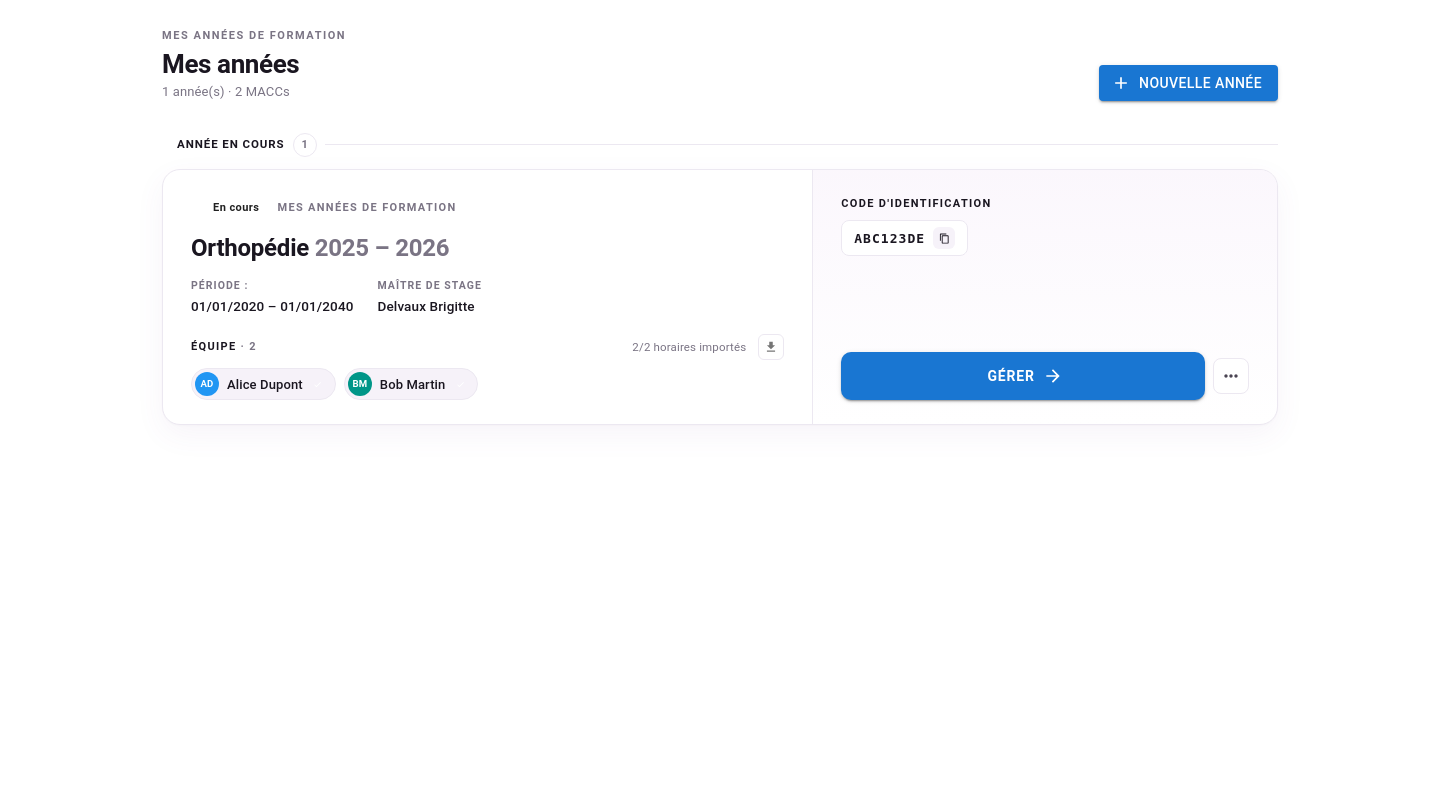
Test: ConfirmationDialog › 'Annuler' ferme la dialog
This screenshot has width=1440, height=810.
Click the button with test id "MoreHorizIcon".
click(1231, 376)  # box [1213,358,1249,394]
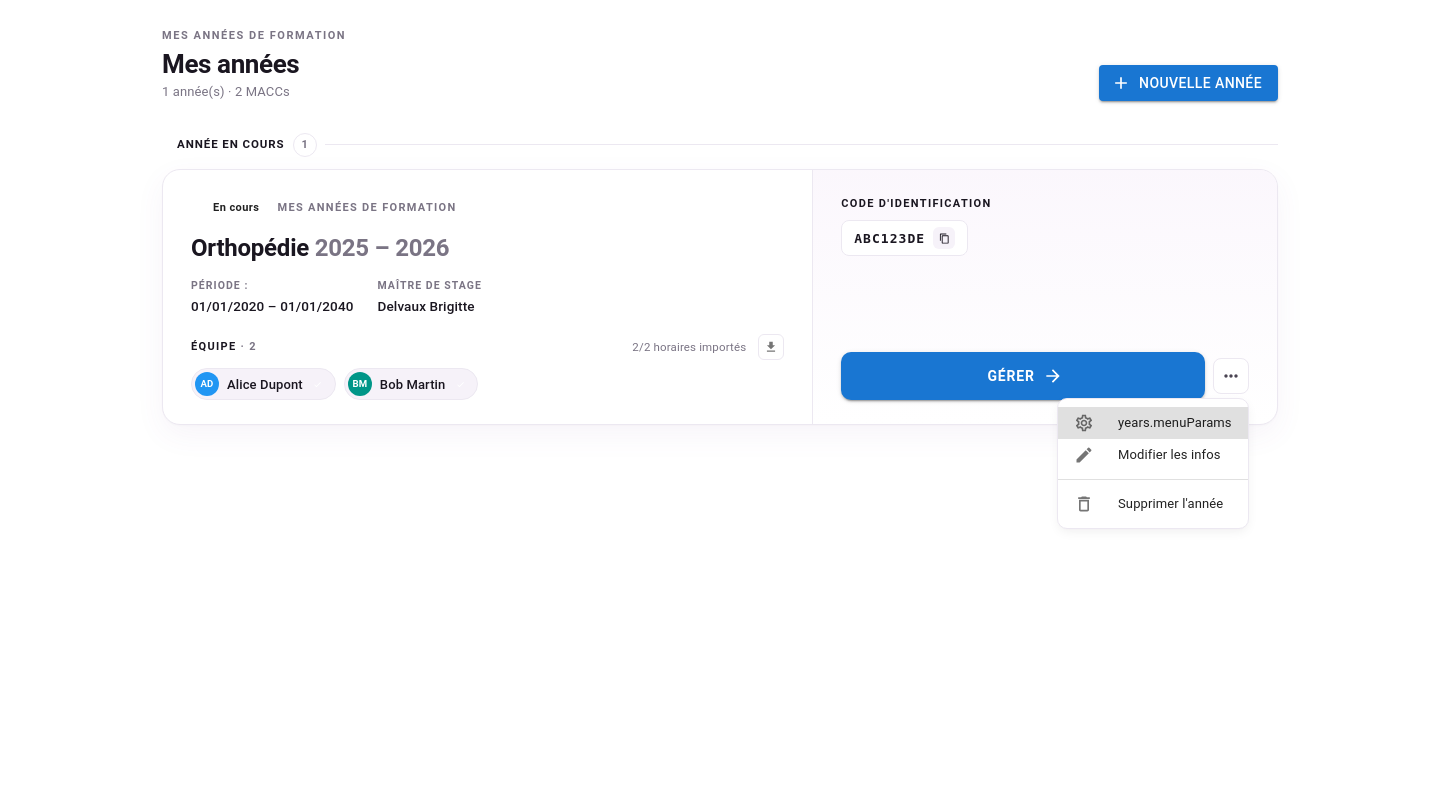
Check: the text "Supprimer l'année" is shown, box [1118,494,1232,514]
Click the menu item "Supprimer l'année".
click(1149, 504)  # box [1074,494,1223,514]
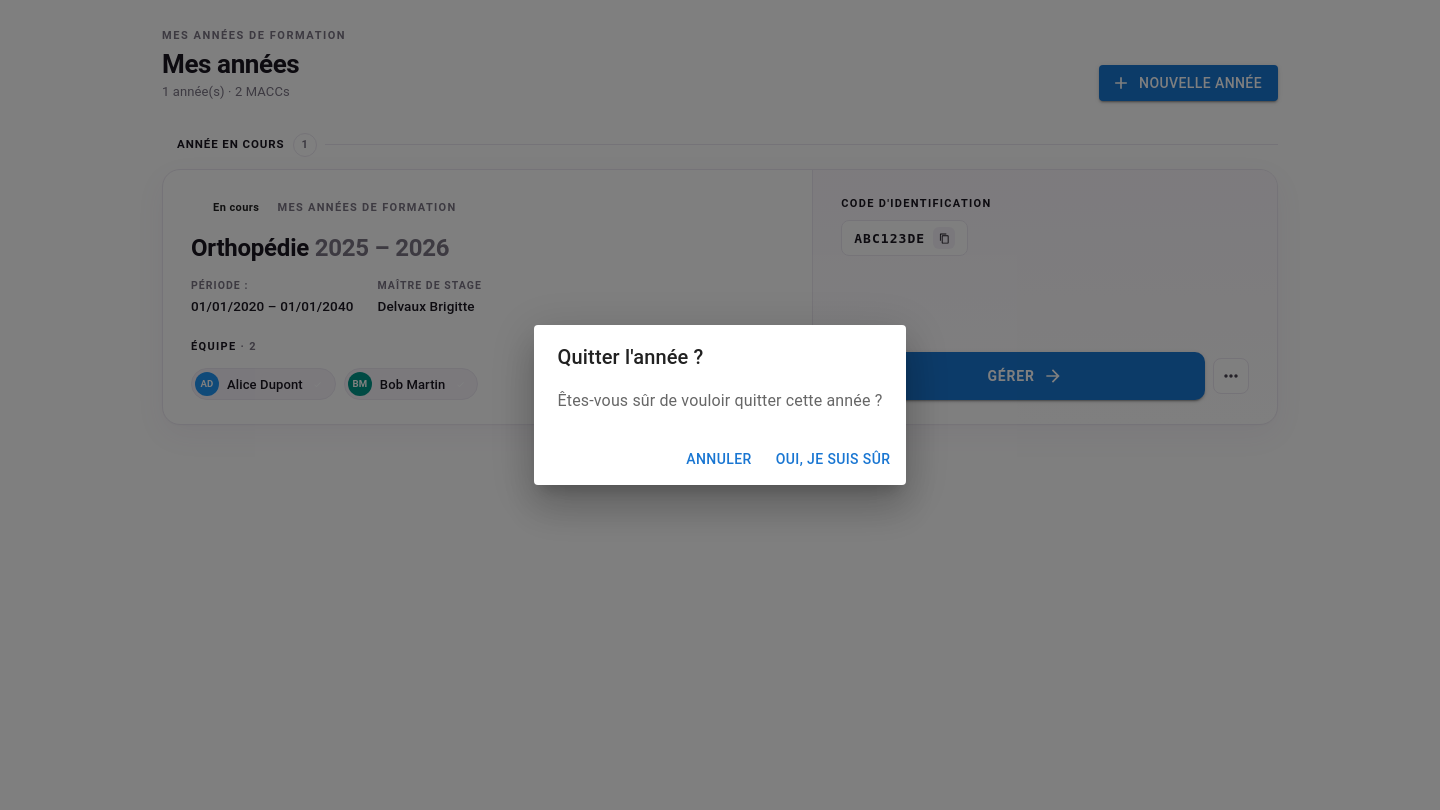
Check: the dialog is shown, box [534,325,906,485]
Click the button "Annuler".
click(719, 459)  # box [678,441,760,477]
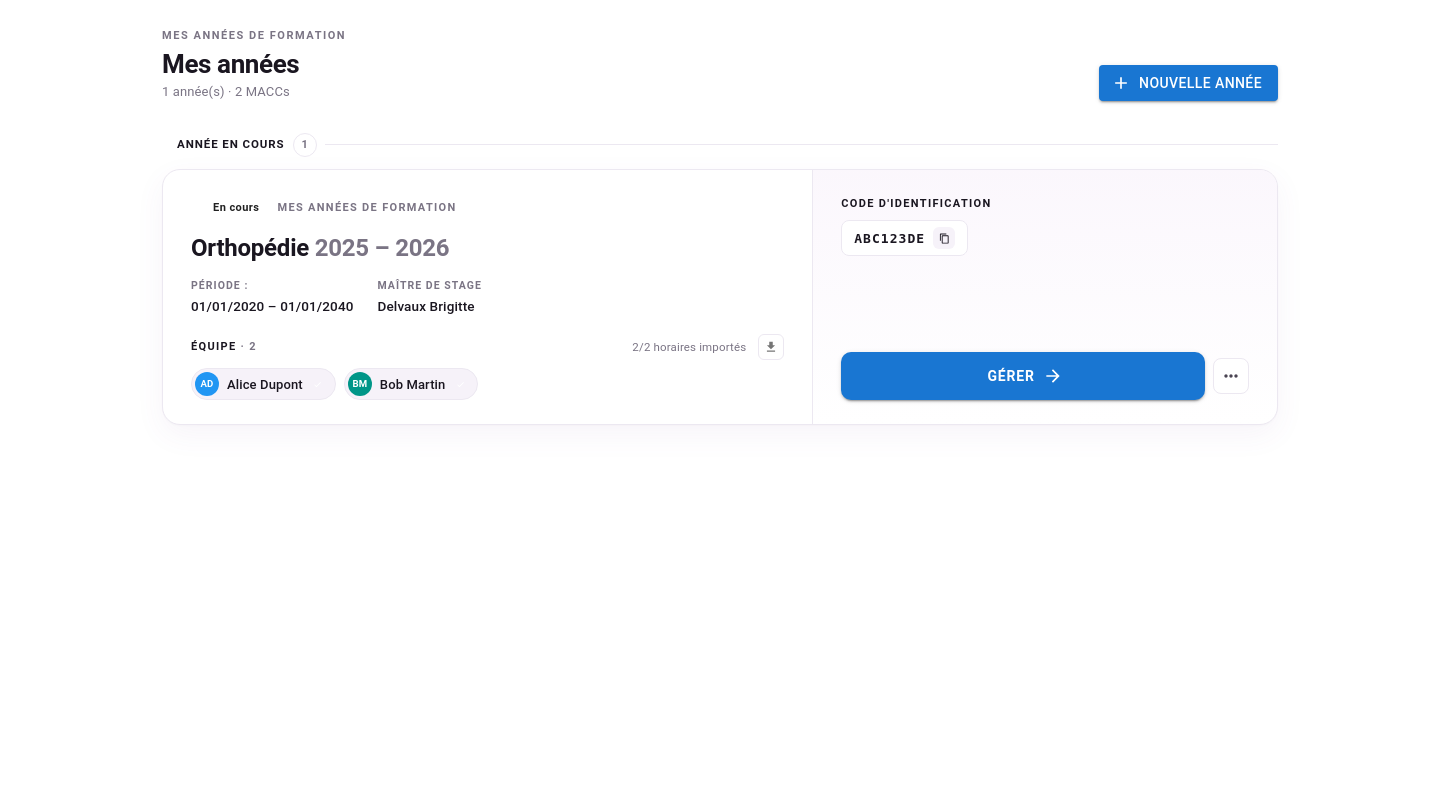
Check: the dialog is gone
